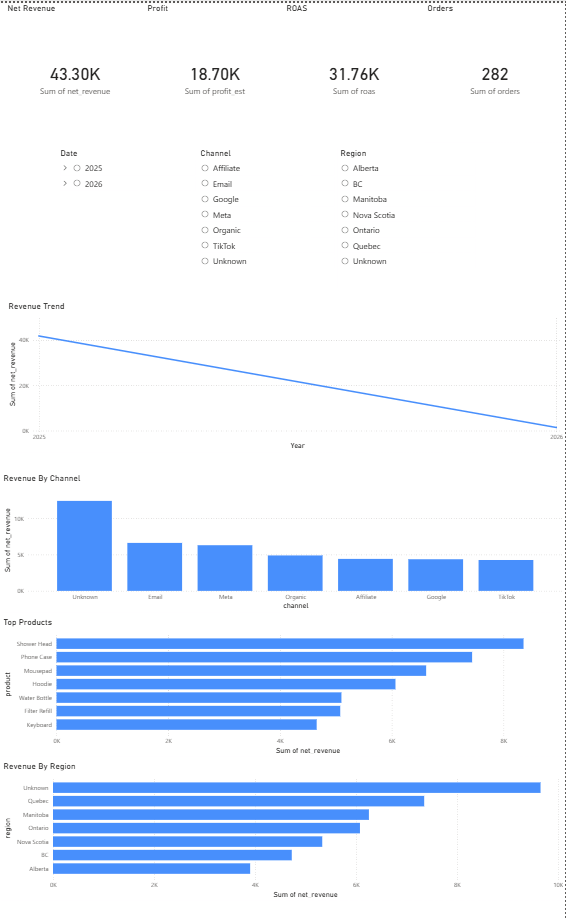

Layout of this report page (visuals, bound fields, positions):
{"tool":"powerbi","page":{"name":"Executive Overview","canvas":[1130,2000],"ordinal":0},"visuals":[{"type":"card","title":"Net Revenue","fields":{"Values":["Sum(gold_kpis.net_revenue)"]},"box":[10,0,280,280],"z":0},{"type":"card","title":"Profit","fields":{"Values":["Sum(gold_kpis.profit_est)"]},"box":[289.8,0,279.1,280.1],"z":1000},{"type":"card","title":"Orders","fields":{"Values":["Sum(gold_kpis.orders)"]},"box":[849.1,1,280.1,279.1],"z":2000},{"type":"card","title":"ROAS","fields":{"Values":["Sum(gold_kpis.roas)"]},"box":[569,0,280.1,280.1],"z":3000},{"type":"lineChart","title":"Revenue Trend","fields":{"Category":["gold_kpis.order_date.Variation.Date Hierarchy.Year","gold_kpis.order_date.Variation.Date Hierarchy.Quarter","gold_kpis.order_date.Variation.Date Hierarchy.Month","gold_kpis.order_date.Variation.Date Hierarchy.Day"],"Y":["Sum(gold_kpis.net_revenue)"]},"box":[11.1,596.5,1118.8,302.5],"z":4000},{"type":"clusteredColumnChart","title":"Revenue By Channel","fields":{"Category":["gold_kpis.channel"],"Y":["Sum(gold_kpis.net_revenue)"]},"box":[1.1,939,1128.8,278.8],"z":5000},{"type":"barChart","title":"Top Products","fields":{"Category":["gold_product_perf.product"],"Y":["Sum(gold_product_perf.net_revenue)"]},"box":[1.1,1227.8,1129,279],"z":6000},{"type":"barChart","title":"Revenue By Region","fields":{"Category":["gold_region_perf.region"],"Y":["Sum(gold_region_perf.net_revenue)"]},"box":[1.1,1516.8,1129,279],"z":7000},{"type":"listSlicer","title":"Date","fields":{"Values":["gold_kpis.order_date.Variation.Date Hierarchy.Year","gold_kpis.order_date.Variation.Date Hierarchy.Quarter","gold_kpis.order_date.Variation.Date Hierarchy.Month","gold_kpis.order_date.Variation.Date Hierarchy.Day"]},"box":[116.7,290,280,280],"z":7001},{"type":"listSlicer","title":"Channel","fields":{"Values":["gold_kpis.channel"]},"box":[396.7,290,278.9,280],"z":7002},{"type":"listSlicer","title":"Region","fields":{"Values":["gold_region_perf.region"]},"box":[675.6,290,280,280],"z":7003}]}

Visuals, with their boxes on the page's 1130x2000 design canvas (x1, y1, x2, y2). These are canvas units, not pixel positions in the 566x920 screenshot, which may show the page scaled, cropped or inside an application window:
"Net Revenue" card: <bbox>10, 0, 290, 280</bbox>
"Profit" card: <bbox>290, 0, 569, 280</bbox>
"Orders" card: <bbox>849, 1, 1129, 280</bbox>
"ROAS" card: <bbox>569, 0, 849, 280</bbox>
"Revenue Trend" lineChart: <bbox>11, 596, 1130, 899</bbox>
"Revenue By Channel" clusteredColumnChart: <bbox>1, 939, 1130, 1218</bbox>
"Top Products" barChart: <bbox>1, 1228, 1130, 1507</bbox>
"Revenue By Region" barChart: <bbox>1, 1517, 1130, 1796</bbox>
"Date" listSlicer: <bbox>117, 290, 397, 570</bbox>
"Channel" listSlicer: <bbox>397, 290, 676, 570</bbox>
"Region" listSlicer: <bbox>676, 290, 956, 570</bbox>
